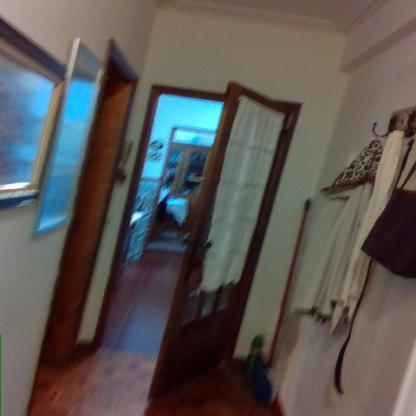semi: (85, 69, 310, 409)
